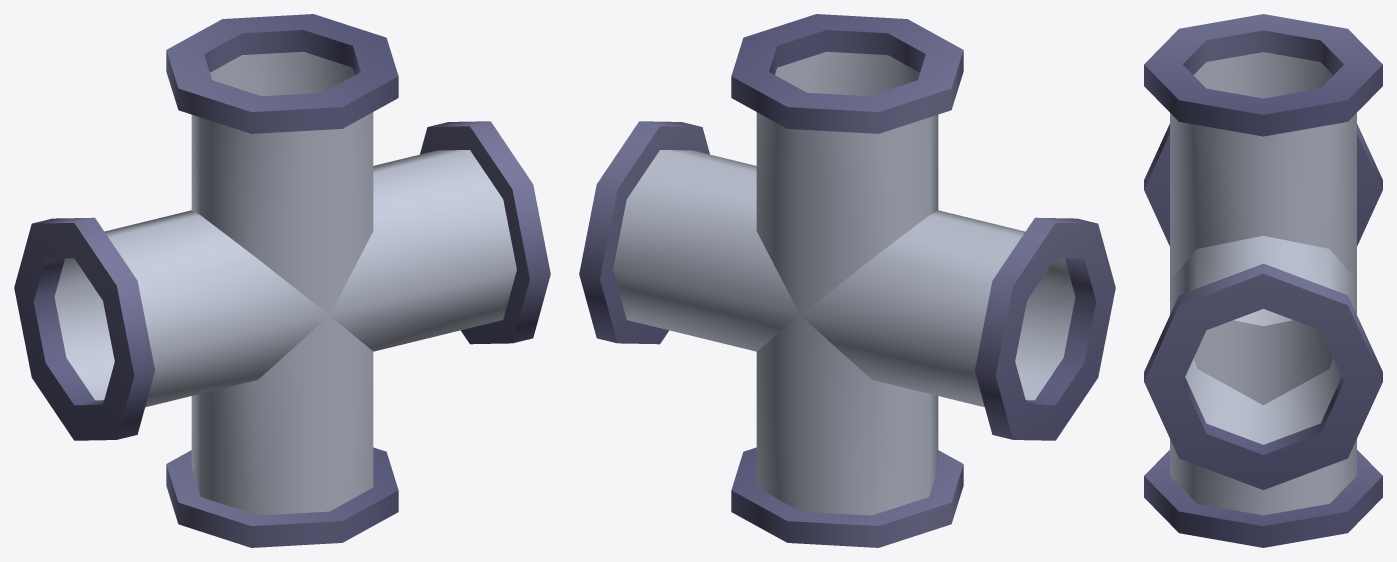
The model's file is pipe_glass_large_cross.glb.
The picture shows the model from 3 angles, left to right: view 1: azimuth 30°, elevation 25°; view 2: azimuth 150°, elevation 25°; view 3: azimuth 270°, elevation 25°; orthographic projection.
Visible parts, largest first — view 1: pipe-glass-large-cross; view 2: pipe-glass-large-cross; view 3: pipe-glass-large-cross.
Part boxes in pixels (x1=…): pipe-glass-large-cross: x1=14, y1=14, x2=550, y2=547; pipe-glass-large-cross: x1=579, y1=14, x2=1115, y2=547; pipe-glass-large-cross: x1=1144, y1=14, x2=1382, y2=547.
Bounding box in the file's own units: 2 × 2 × 1.
2 materials, 1 textured.
